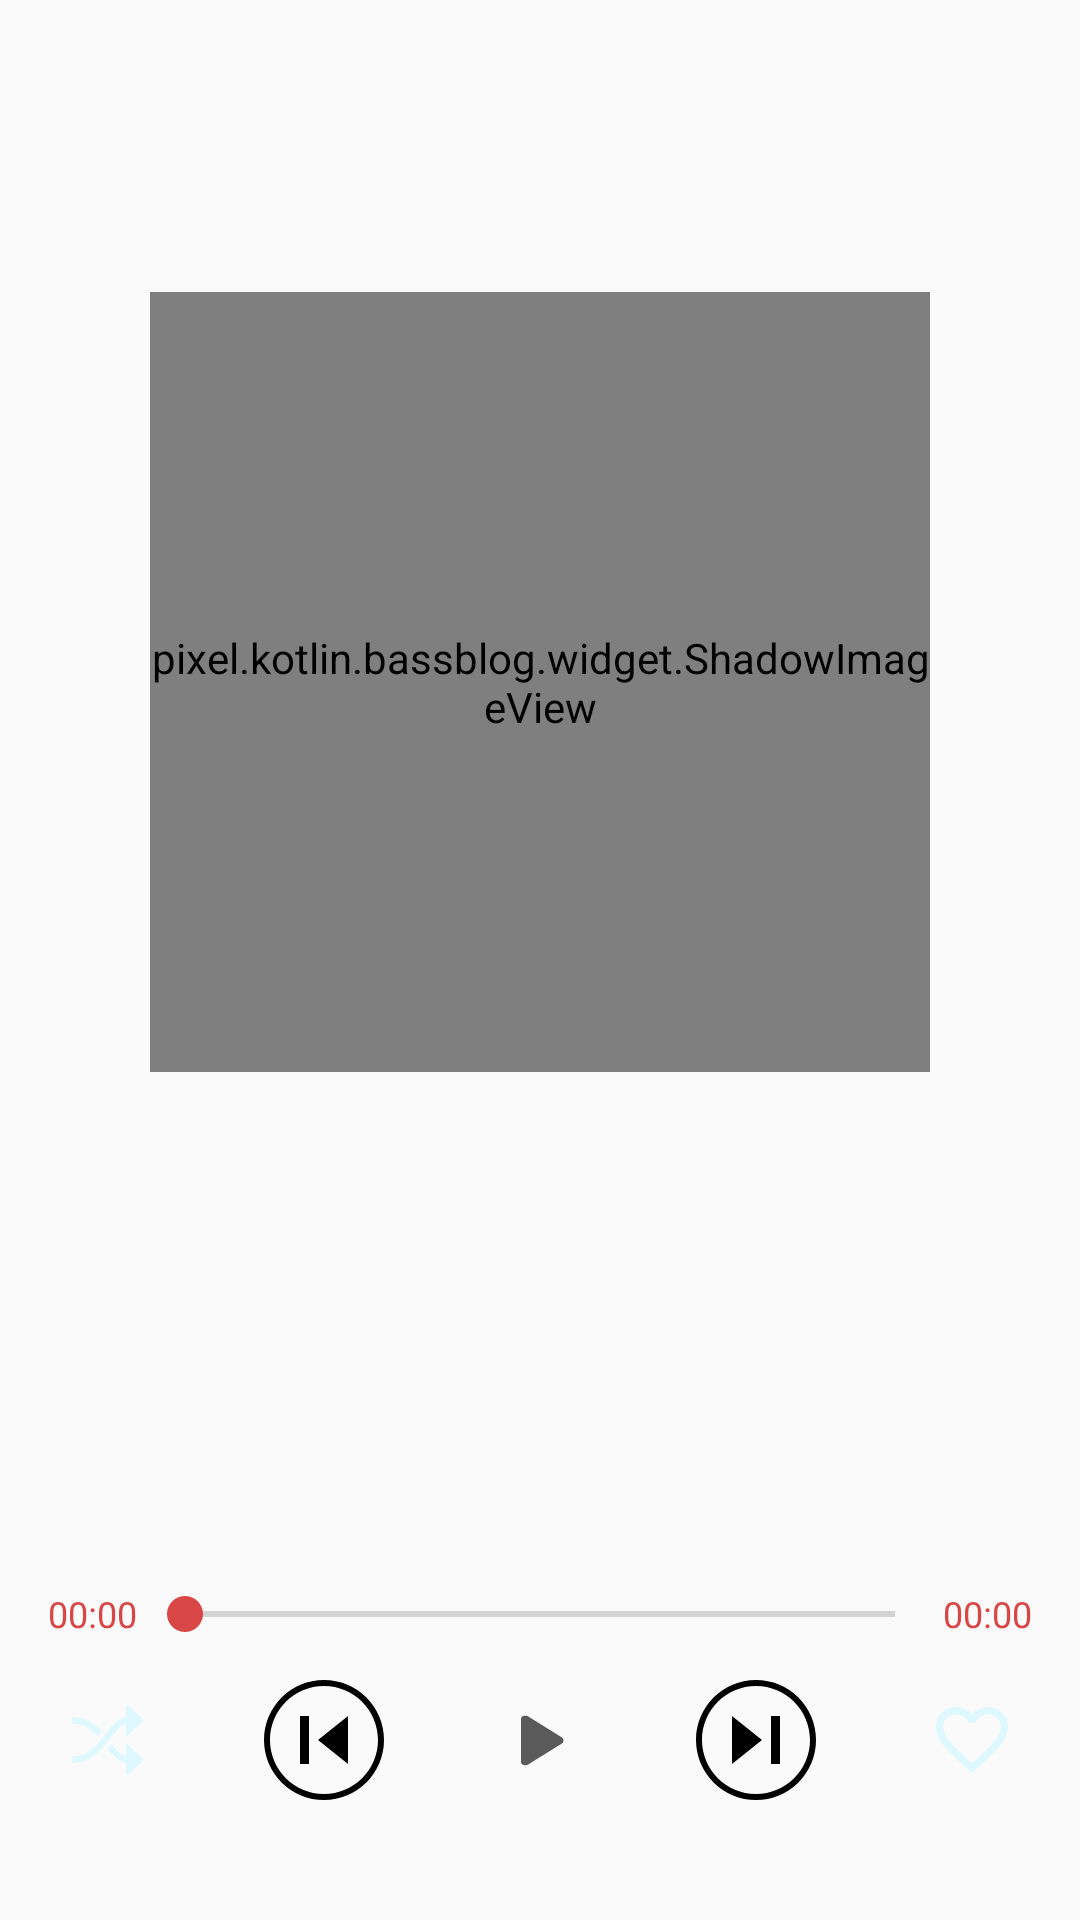

Screen size 1080×1920. Icon name, then its box in pixels as (x1, y1, x2, y2):
favorite no: (936, 1707, 1008, 1772)
play: (521, 1715, 564, 1766)
play last: (264, 1680, 384, 1800)
play mode shuffle: (72, 1705, 143, 1775)
play next: (696, 1680, 816, 1800)
